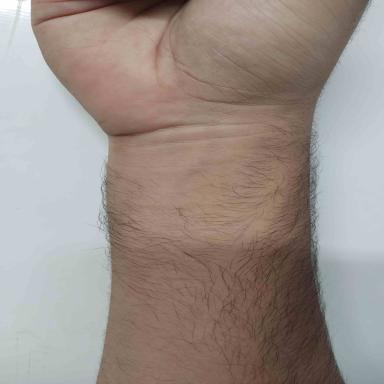normal skin: (32, 0, 368, 384)
